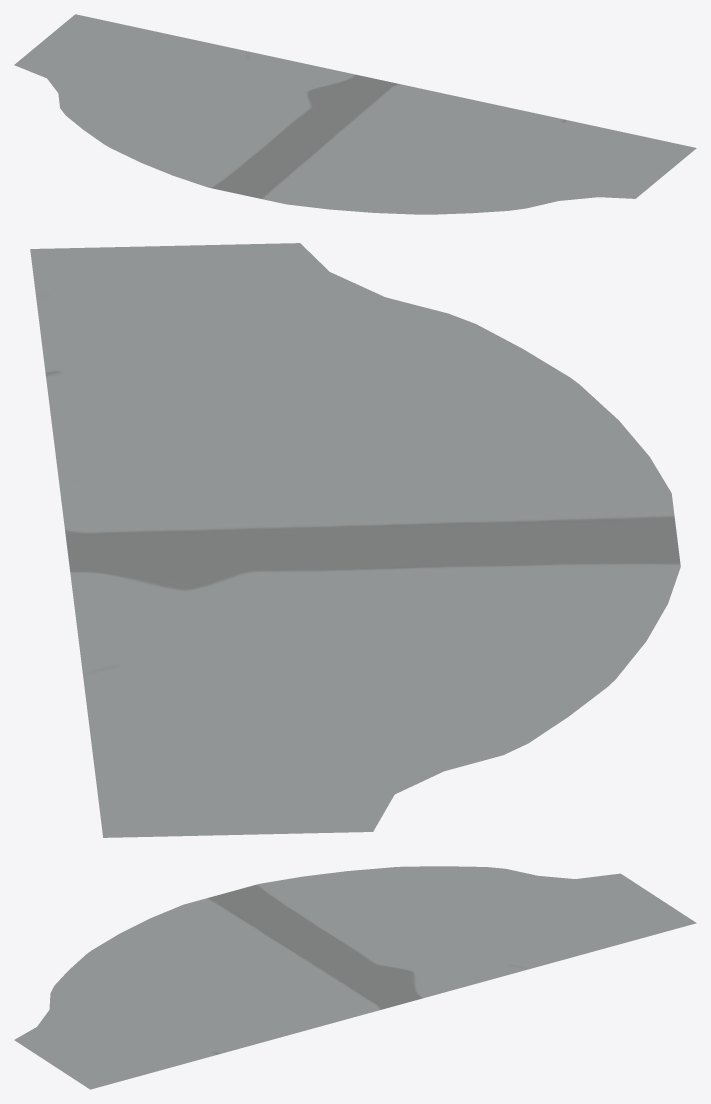
The model's file is garden entrance test.fbx.
3 views of the same model, one above another, from view 1: azimuth 30°, elevation 25°; view 2: azimuth 150°, elevation 25°; view 3: azimuth 270°, elevation 25° (orthographic). The views are drawn at different scales.
Visible parts, largest first — view 1: Cube__1_; view 2: Cube__1_; view 3: Cube__1_.
Boxes of the visible parts, bbox=[...] form: Cube__1_: bbox=[14, 14, 696, 214]; Cube__1_: bbox=[30, 243, 680, 837]; Cube__1_: bbox=[14, 866, 696, 1089].
Bounding box in the file's own units: 5481 × 0 × 7081.
1 material, 1 textured.
